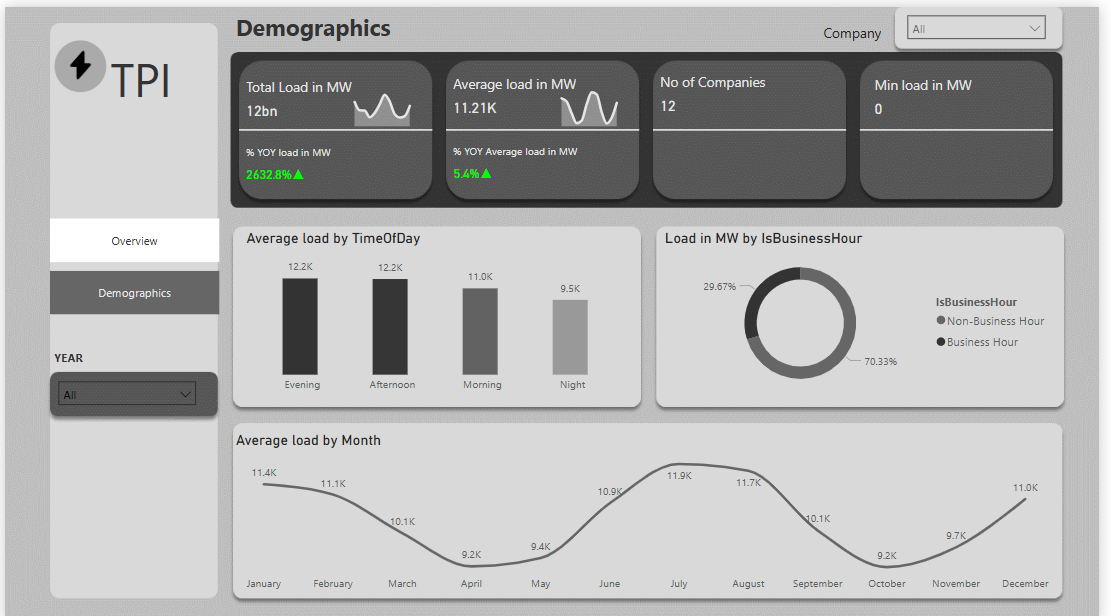

What the dashboard file says about the page in this screenshot:
{"tool":"powerbi","page":{"name":"Page 2","canvas":[1280,720],"ordinal":1},"visuals":[{"type":"pivotTable","title":"Variation in Avg Hourly usage by day","fields":{"Rows":["Energy data.Time"],"Values":["Measures Table.Average Hourly Usage"],"Columns":["DateTable.Weekday"]},"box":[655.8,204.1,572.6,447.9],"z":0},{"type":"slicer","fields":{"Values":["Energy data.Company"]},"box":[786.1,11.3,198.4,54.8],"z":1000},{"type":"slicer","fields":{"Values":["DateTable.Year"]},"box":[997.8,11.3,206,73.7],"z":2000},{"type":"card","fields":{"Values":["Measures Table.Report Header 1"]},"box":[0,11.3,761.6,54.8],"z":3000},{"type":"cardVisual","fields":{"Data":["Measures Table.Total Load in MW"]},"box":[98.3,66.1,183.3,68],"z":4000},{"type":"cardVisual","fields":{"Data":["Measures Table.% YOY load"]},"box":[98.3,126.6,164.4,64.3],"z":5000},{"type":"cardVisual","fields":{"Data":["Measures Table.Avg Daily usage"]},"box":[366.6,73.7,206,86.9],"z":6000},{"type":"cardVisual","fields":{"Data":["Measures Table.% YOY Average Daily load"]},"box":[366.6,120.9,206,83.2],"z":7000},{"type":"cardVisual","fields":{"Data":["Measures Table.Average Hourly Usage"]},"box":[638.7,75.6,230.6,86.9],"z":8000},{"type":"cardVisual","fields":{"Data":["Measures Table.% YOY Average load"]},"box":[638.7,111.5,168.2,98.3],"z":9000},{"type":"cardVisual","fields":{"Data":["Measures Table.Min load"]},"box":[916.5,75.6,209.8,85],"z":10000},{"type":"cardVisual","fields":{"Data":["Measures Table.YOY Min load %"]},"box":[914.7,119.1,164.4,85],"z":11000},{"type":"actionButton","box":[30.2,234.3,68,62.4],"z":12000},{"type":"actionButton","box":[30.2,326.9,60.5,111.5],"z":13000},{"type":"barChart","fields":{"Category":["Energy data.Company"],"Y":["Measures Table.Total Load in MW"]},"box":[98.3,204.1,525.4,207.9],"z":14000},{"type":"columnChart","fields":{"Category":["PeakLoadPerCompany.Company"],"Y":["Sum(PeakLoadPerCompany.Peak Load (MW))"]},"box":[98.3,412,525.4,219.2],"z":15000}]}

Visuals, with their boxes in screenshot pixels (x1, y1, x2, y2), scaled from the page's 1280x720 canvas onto the 1111x616 screenshot:
"Variation in Avg Hourly usage by day" pivotTable: locate(569, 175, 1066, 558)
slicer - Energy data.Company: locate(682, 10, 855, 57)
slicer - DateTable.Year: locate(866, 10, 1045, 73)
card - Measures Table.Report Header 1: locate(0, 10, 661, 57)
cardVisual - Measures Table.Total Load in MW: locate(85, 57, 244, 115)
cardVisual - Measures Table.% YOY load: locate(85, 108, 228, 163)
cardVisual - Measures Table.Avg Daily usage: locate(318, 63, 497, 137)
cardVisual - Measures Table.% YOY Average Daily load: locate(318, 103, 497, 175)
cardVisual - Measures Table.Average Hourly Usage: locate(554, 65, 755, 139)
cardVisual - Measures Table.% YOY Average load: locate(554, 95, 700, 179)
cardVisual - Measures Table.Min load: locate(795, 65, 978, 137)
cardVisual - Measures Table.YOY Min load %: locate(794, 102, 937, 175)
actionButton: locate(26, 200, 85, 254)
actionButton: locate(26, 280, 79, 375)
barChart - Energy data.Company x Measures Table.Total Load in MW: locate(85, 175, 541, 352)
columnChart - PeakLoadPerCompany.Company x Sum(PeakLoadPerCompany.Peak Load (MW)): locate(85, 352, 541, 540)
